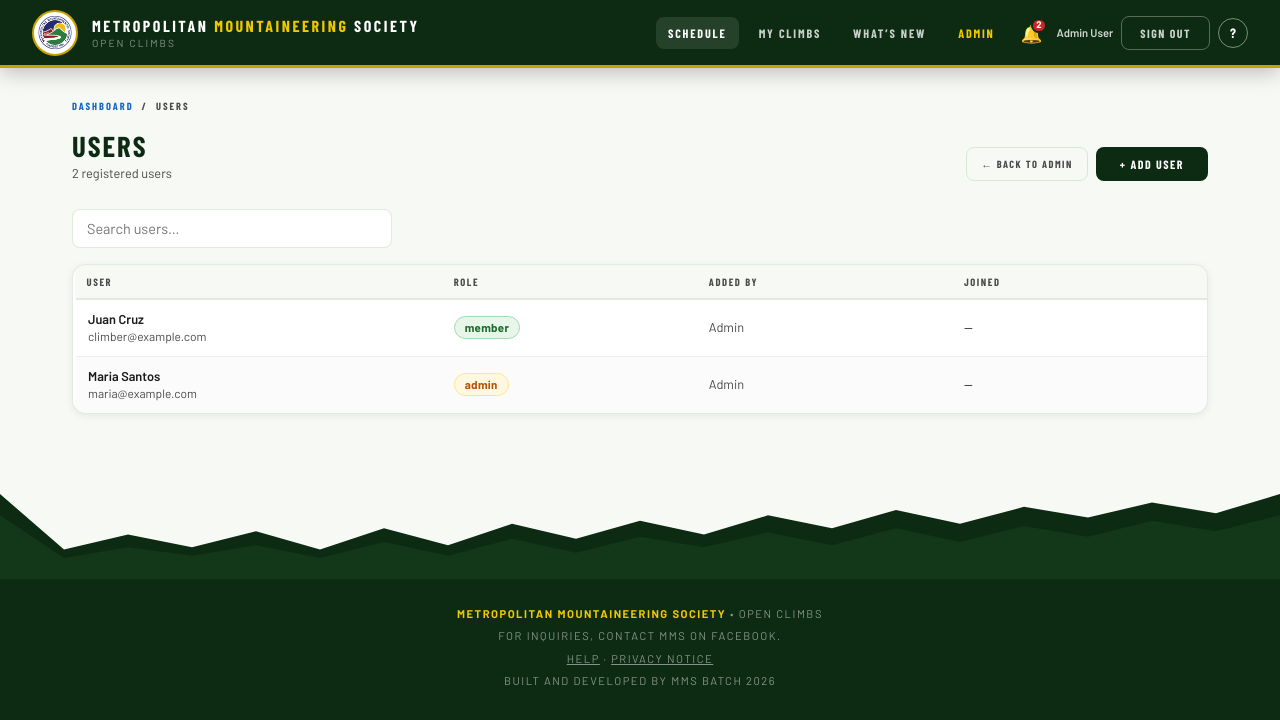
Scenario: Admin UsersManage › opens the Add User modal when the button is clicked
Check: the button "Juan Cruz" is shown, box [88,310,144,328]
Click the button "+ Add User": (1152, 164) [1096,147,1208,181]
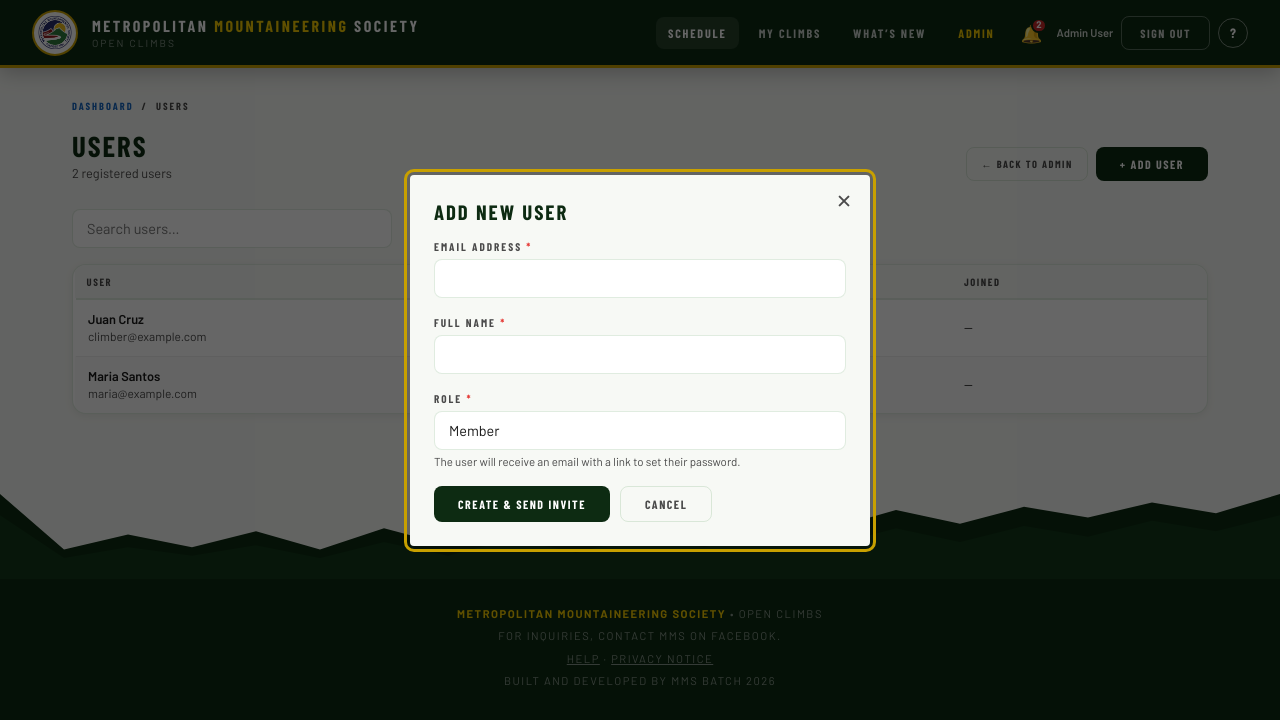
Check: the button "Create & Send Invite" is shown, box [434,486,610,522]
